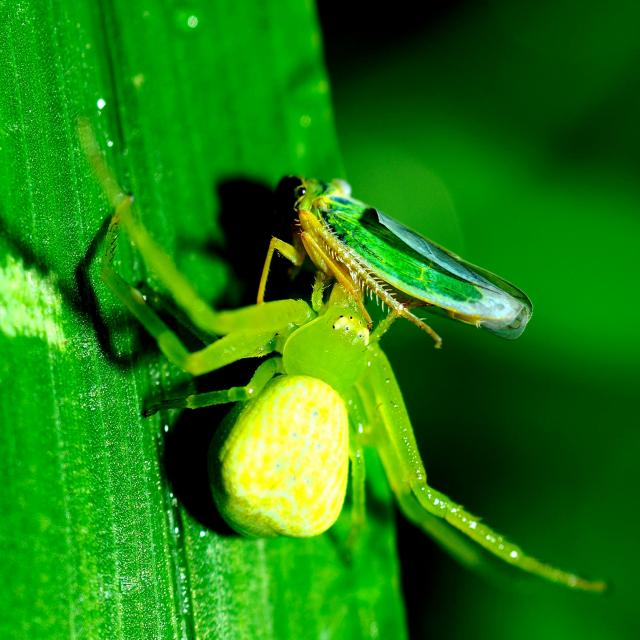Yechan: (279, 174, 542, 348)
